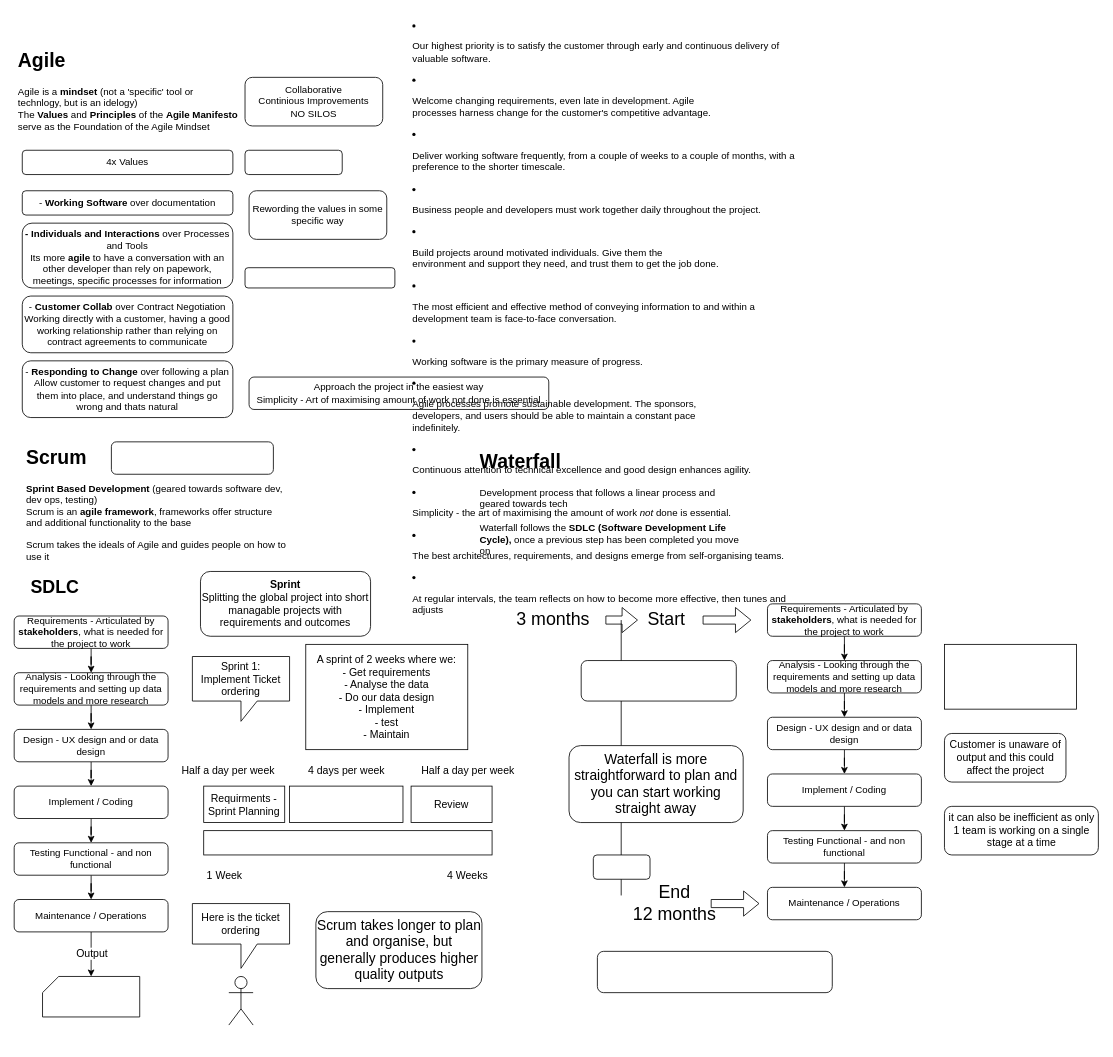
Some shapes in this 1113 by 1057 pixel diagram are drawn without their labels. Each missing label, with the centre of its shape:
12x Principles: (x=293, y=162)
analysis / Design / Implement / Testing / maintanance: (x=346, y=804)
Customer: (x=240, y=1000)
Daily Standups / Scrum Master - Using Scrum: (x=192, y=457)
data model: Database entry for Tickets id: cinema: seat: price: (x=1010, y=676)
Deadline: (x=621, y=866)
Face to face conversation: (x=319, y=277)
If you need to redo a step, you start again from that stage: (x=658, y=680)
Sprint Length: (x=347, y=842)
ticket_ordering.js: (x=91, y=996)
Waterfall has a deadline which is an estimation for end of project: (x=714, y=972)
